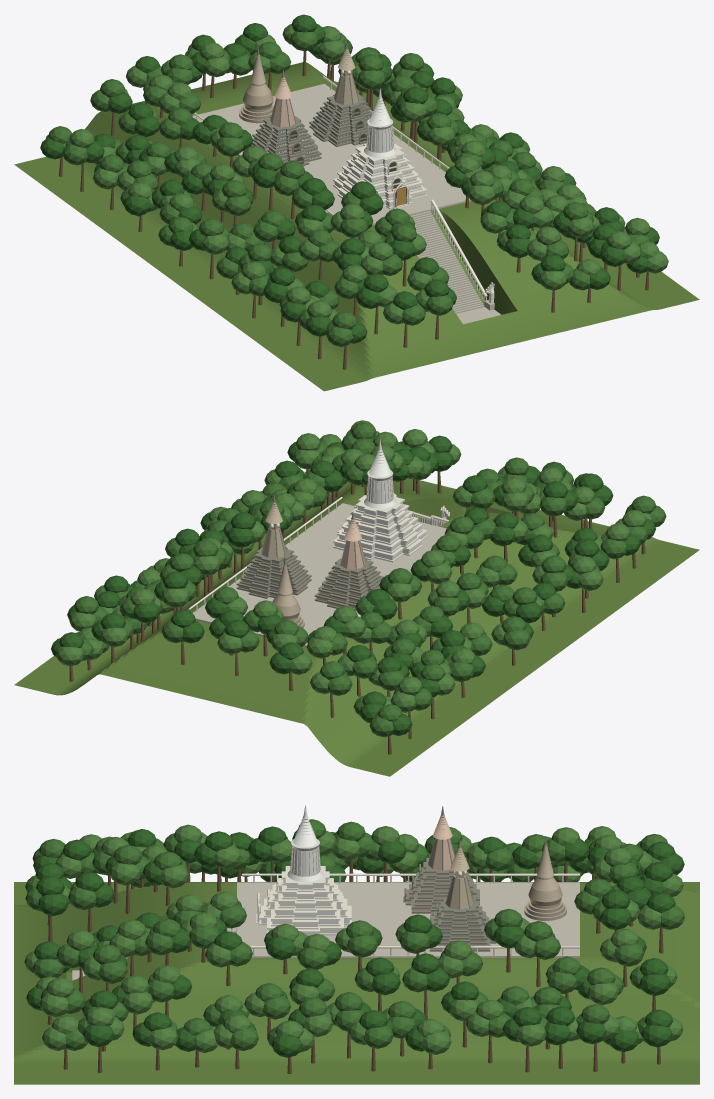
The model's file is oudong-ultra.glb.
3 renders of one model, top to bottom at view 1: azimuth 30°, elevation 25°; view 2: azimuth 150°, elevation 25°; view 3: azimuth 270°, elevation 25°, orthographic. The views are drawn at different scales.
Visible parts, largest first — view 1: Green hill surface, Forest canopy 1, Forest canopy 0, Forest canopy 2, Terraces and stairs, Pale carved mouldings, Old recessed ornament, Tree bark, Weathered royal stucco, White relic stupa, Warm old plaster; view 2: Green hill surface, Forest canopy 1, Forest canopy 2, Forest canopy 0, Terraces and stairs, Old recessed ornament, Pale carved mouldings, Tree bark, White relic stupa, Weathered royal stucco, Warm old plaster; view 3: Green hill surface, Forest canopy 0, Forest canopy 1, Forest canopy 2, Terraces and stairs, Pale carved mouldings, Tree bark, Old recessed ornament, Weathered royal stucco, White relic stupa, Warm old plaster.
Part boxes in pixels (x1,y1,x2,y2): Green hill surface: (14, 62, 699, 391); Forest canopy 1: (46, 31, 649, 346); Forest canopy 0: (40, 14, 659, 343); Forest canopy 2: (63, 24, 668, 332); Terraces and stairs: (192, 84, 501, 324); Pale carved mouldings: (193, 70, 494, 303); Old recessed ornament: (250, 41, 372, 166); Tree bark: (58, 51, 649, 369); Weathered royal stucco: (239, 49, 370, 144); White relic stupa: (334, 98, 425, 206); Warm old plaster: (251, 77, 319, 163); Green hill surface: (14, 469, 699, 776); Forest canopy 1: (74, 422, 666, 737); Forest canopy 2: (56, 420, 651, 716); Forest canopy 0: (51, 431, 655, 735); Terraces and stairs: (192, 503, 446, 647); Old recessed ornament: (236, 494, 383, 610); Pale carved mouldings: (188, 439, 450, 616); Tree bark: (69, 469, 645, 754); White relic stupa: (334, 449, 425, 560); Weathered royal stucco: (238, 502, 309, 627); Warm old plaster: (316, 519, 380, 608); Green hill surface: (14, 882, 699, 1084); Forest canopy 0: (26, 826, 684, 1057); Forest canopy 1: (25, 819, 684, 1050); Forest canopy 2: (24, 824, 683, 1054); Terraces and stairs: (72, 882, 579, 980); Pale carved mouldings: (125, 805, 579, 958); Tree bark: (47, 859, 663, 1073); Old recessed ornament: (403, 806, 546, 951); Weathered royal stucco: (431, 845, 566, 949); White relic stupa: (261, 816, 349, 936); Warm old plaster: (407, 815, 477, 913).
Bounding box in the file's own units: 28 × 11.63 × 40.
